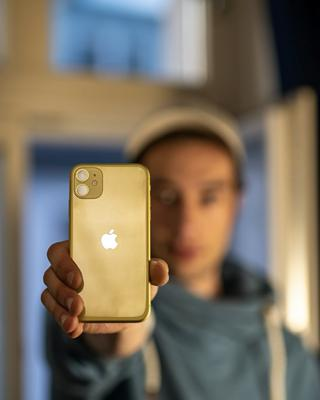cell-phone: (66, 161, 156, 329)
